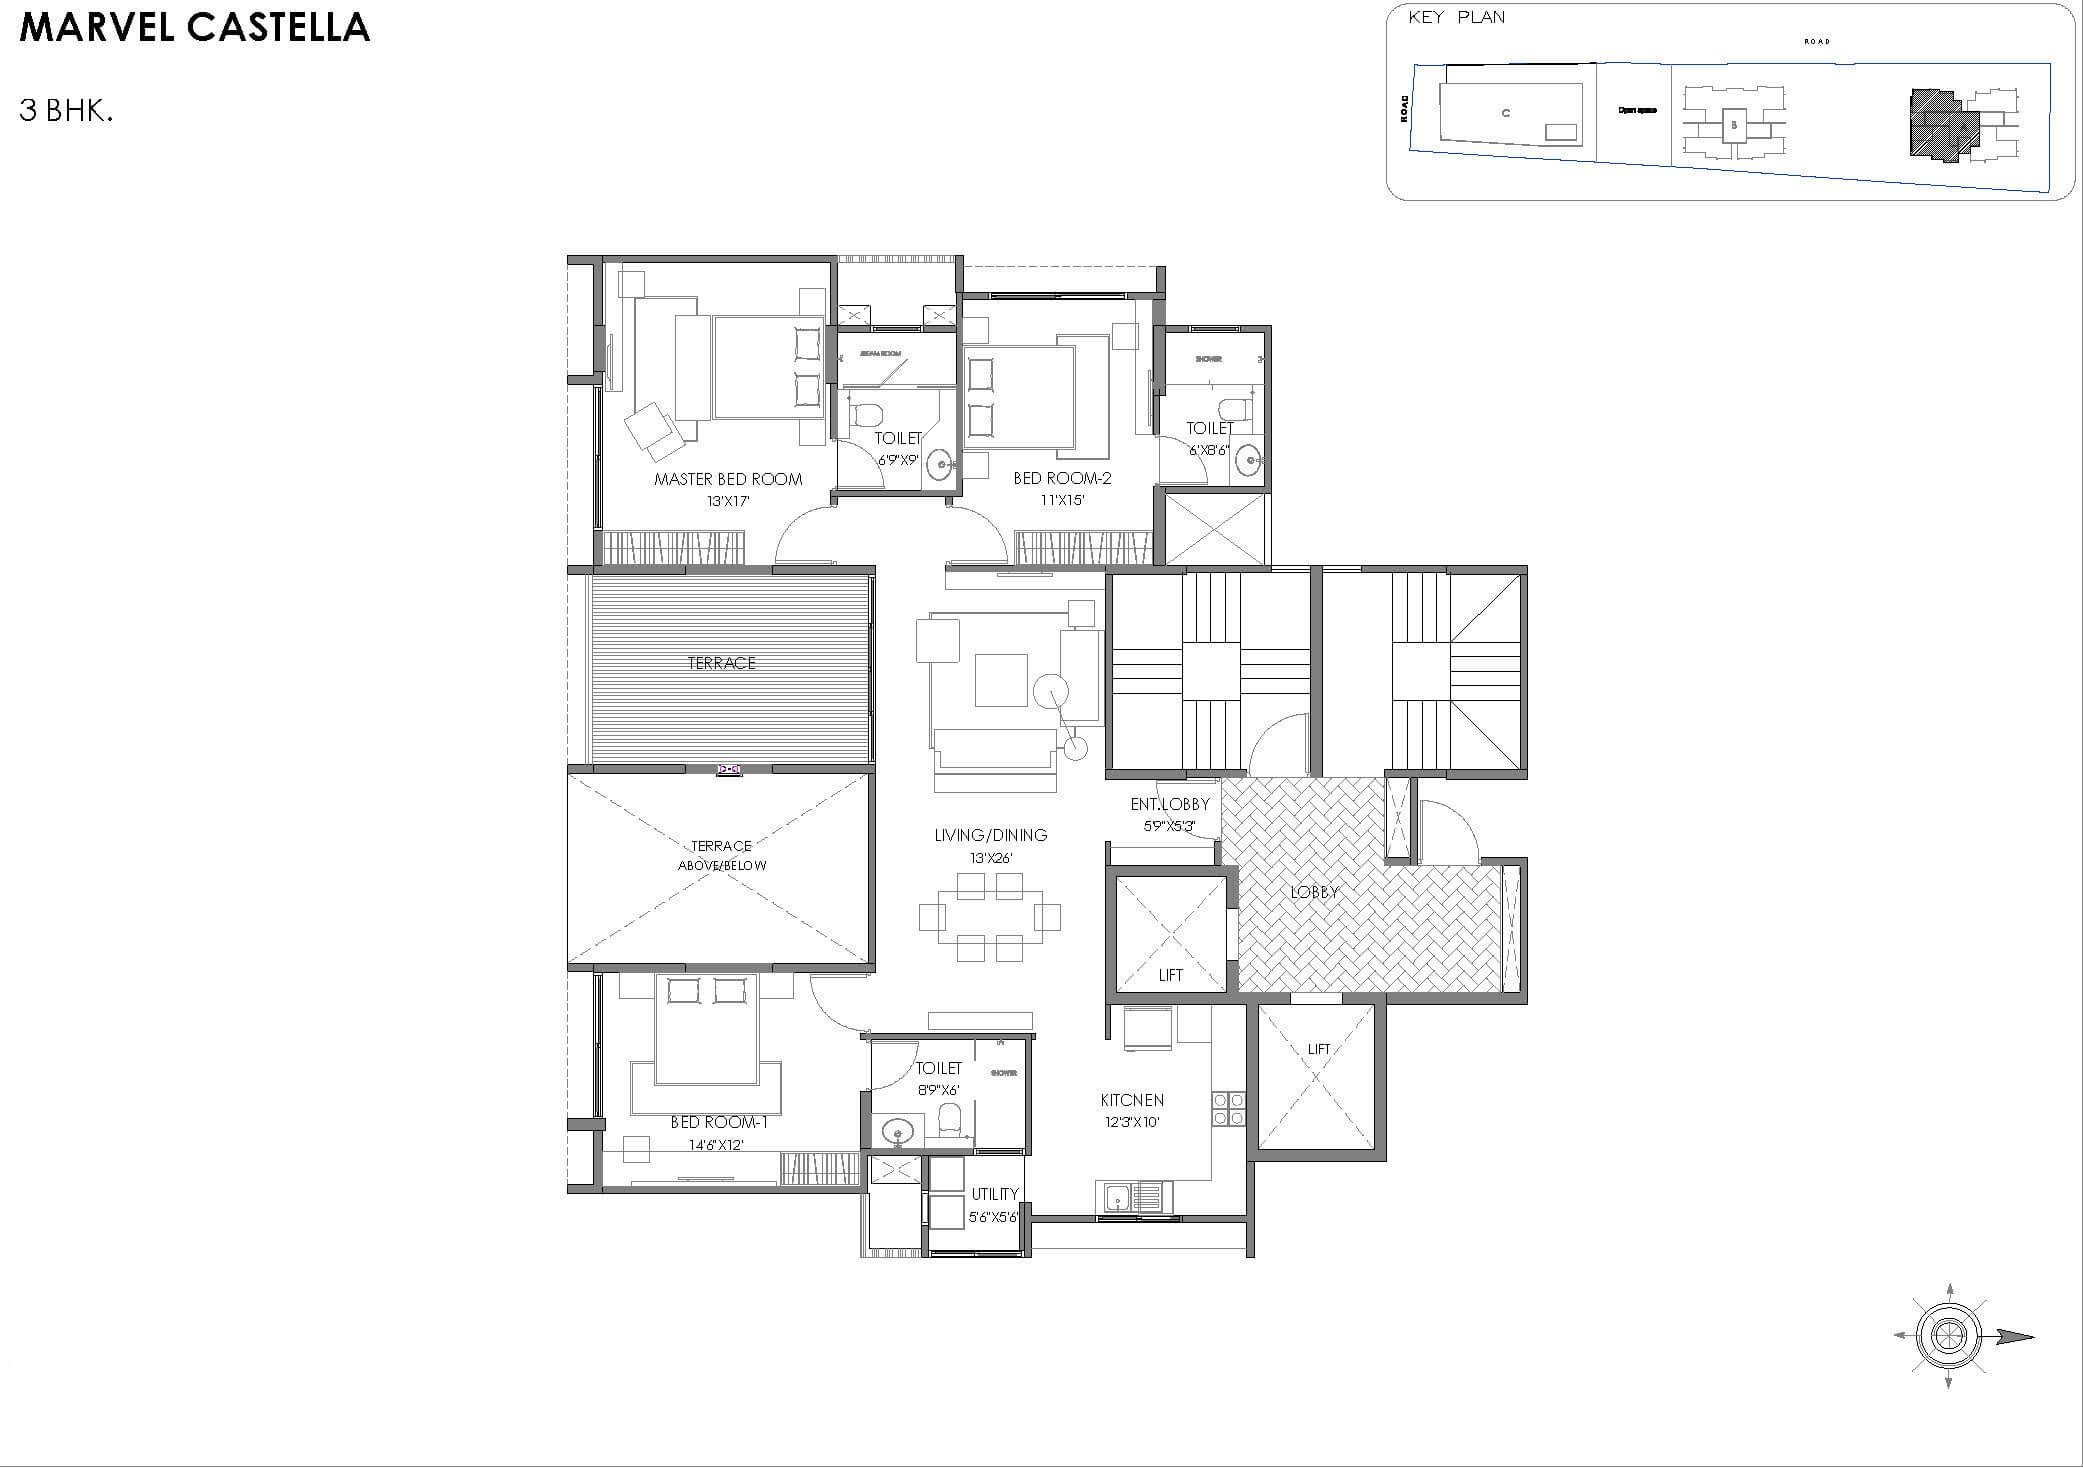room: (868, 569, 1103, 1037), (601, 257, 829, 562), (591, 971, 860, 1185), (960, 299, 1161, 570), (1025, 998, 1254, 1222), (864, 1037, 1030, 1149), (1160, 327, 1263, 489), (831, 383, 969, 500), (918, 1157, 1028, 1254)
